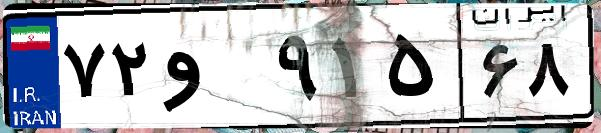1: (330, 28, 385, 110)
2: (110, 28, 158, 98)
5: (385, 28, 445, 110)
6: (475, 38, 525, 113)
7: (57, 26, 110, 100)
8: (525, 38, 570, 115)
9: (270, 28, 330, 110)
و: (158, 20, 270, 120)
